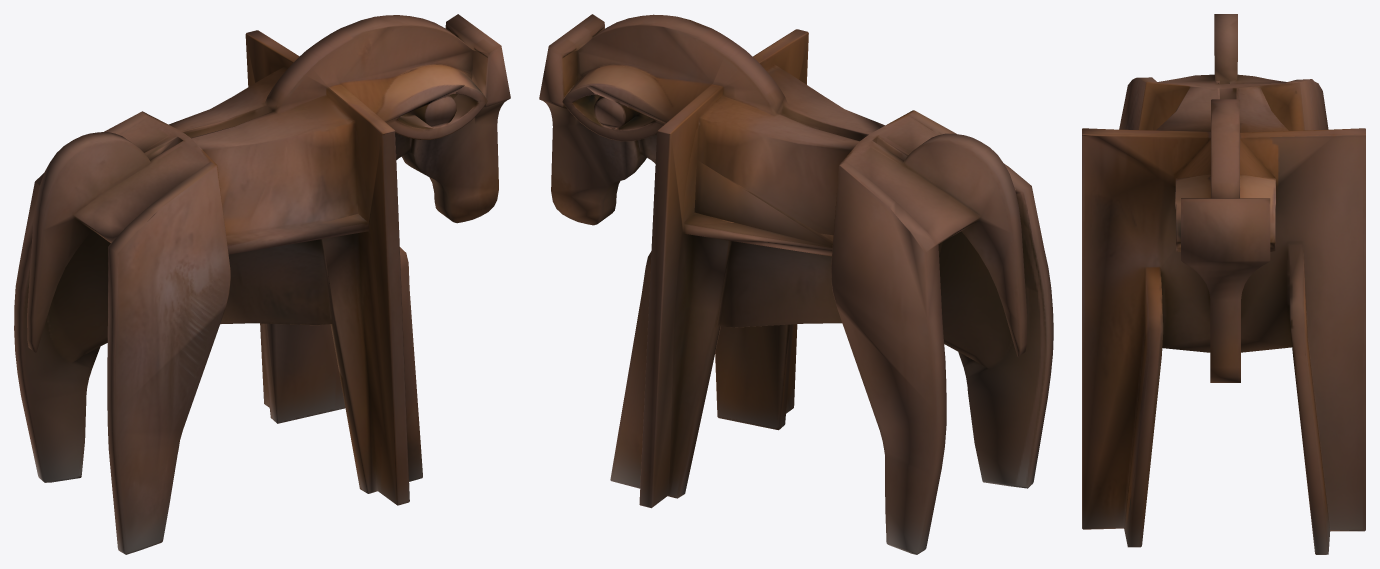
The model's file is Wooden_Horse_Sculpture_-_Cubist_Art_Decor.glb.
3 views of the same model, side by side, from view 1: azimuth 30°, elevation 25°; view 2: azimuth 150°, elevation 25°; view 3: azimuth 270°, elevation 25° (orthographic). The views are drawn at different scales.
Parts seen in each view (by area): view 1: unnamed; view 2: unnamed; view 3: unnamed.
Boxes of the visible parts, x1=… form: unnamed: x1=14, y1=14, x2=510, y2=554; unnamed: x1=539, y1=14, x2=1053, y2=554; unnamed: x1=1082, y1=14, x2=1365, y2=554.
Size of the model in its own units: 0.962 by 0.8392 by 0.4968.
1 material, 1 textured.
